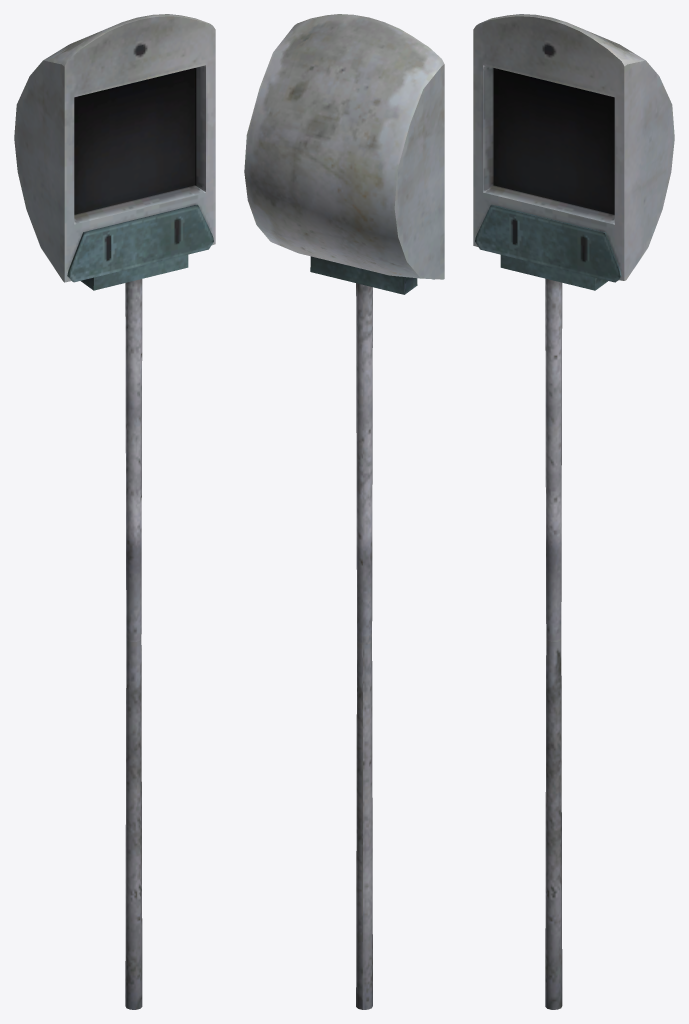
Rendered from thermo_digital.DAE.
The picture shows the model from 3 angles, left to right: view 1: azimuth 30°, elevation 25°; view 2: azimuth 150°, elevation 25°; view 3: azimuth 330°, elevation 25°; orthographic projection.
Parts seen in each view (by area): view 1: thermo_digital; view 2: thermo_digital; view 3: thermo_digital.
Boxes of the visible parts, bbox=[...] form: thermo_digital: bbox=[14, 14, 215, 1009]; thermo_digital: bbox=[244, 14, 444, 1009]; thermo_digital: bbox=[473, 14, 674, 1009].
Bounding box in the file's own units: 2.64 × 16.53 × 1.66.
